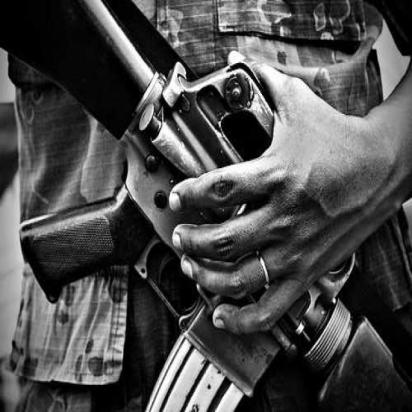Gun: (0, 1, 412, 412)
